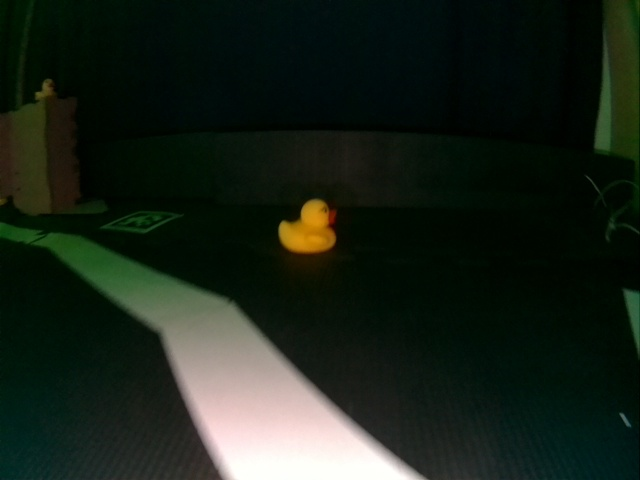Duckie: (278, 199, 336, 252), (35, 78, 56, 102)
QR code: (104, 211, 180, 233)
